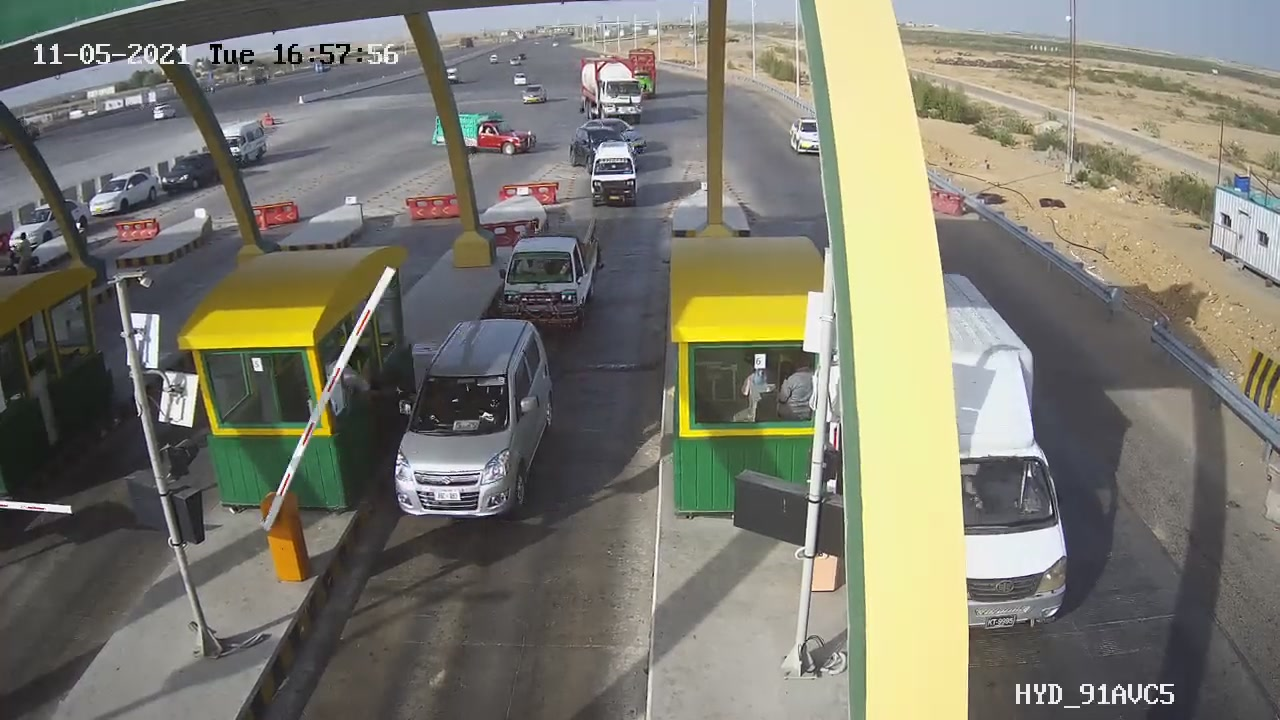F1: (375, 302, 581, 542)
